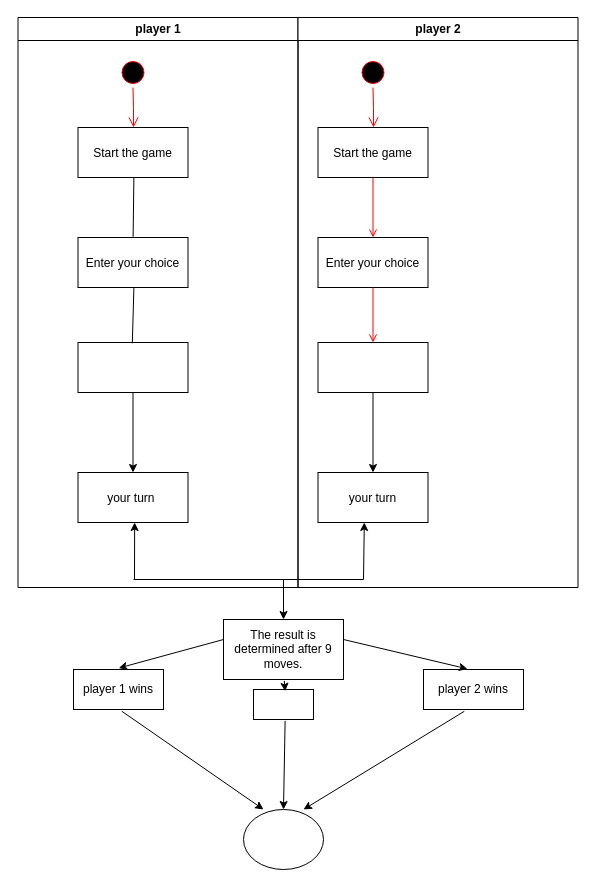
This 595x887 diagram has some shape labels left out. Here are the shapes that lost their labels. From the top down, the centre of each, then its label:
(132,367): 1.play with x
(372,367): 2.play with 0
(283,704): tie
(283,839): end!
